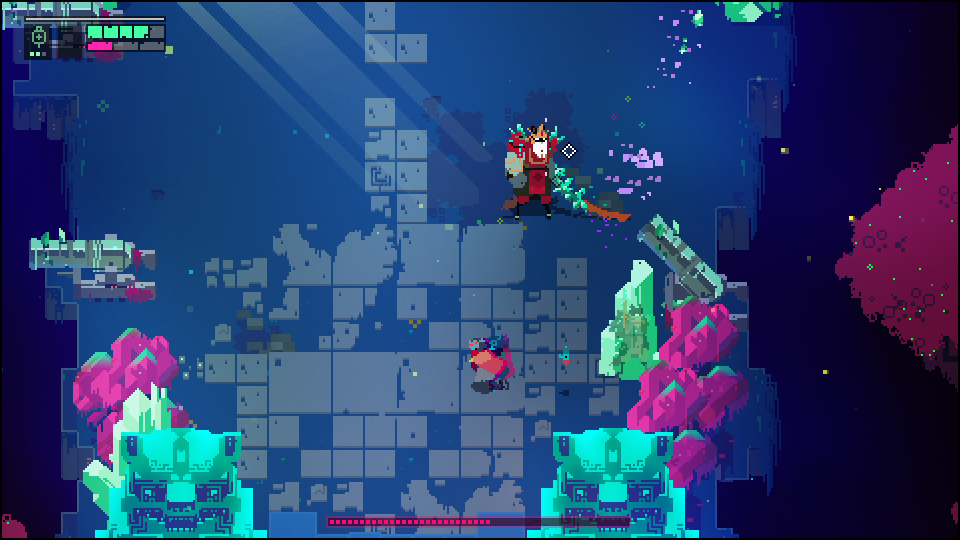hanged_man: (499, 119, 596, 227)
player: (465, 333, 507, 390)
